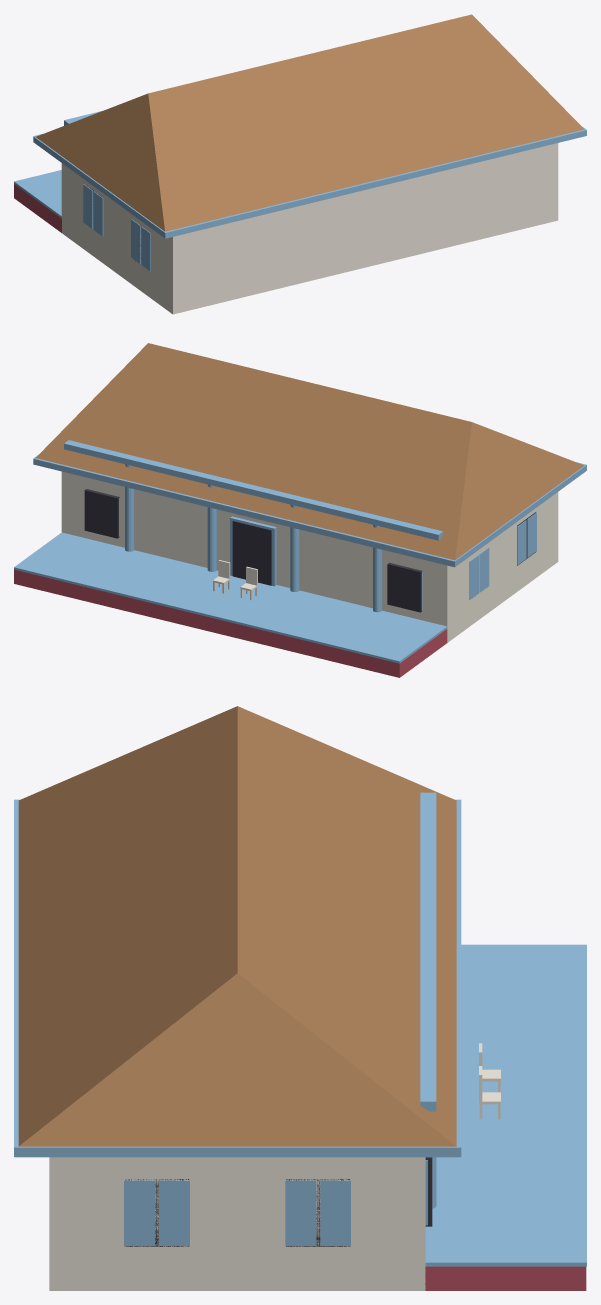
Rendered from Subbamma_House.glb.
3 views of the same model, one above another, from view 1: azimuth 30°, elevation 25°; view 2: azimuth 150°, elevation 25°; view 3: azimuth 270°, elevation 25° (orthographic). The views are drawn at different scales.
Visible parts, largest first — view 1: Roof, Walls, EaveBack, PlinthStrip, EaveLeft, Plinth, WinShutL_S-1_0; view 2: Roof, Walls, PlinthStrip, Plinth, ColBeam, EaveFront, Door, WinRecess_F1, WinRecess_F0, EaveLeft, DoorFrame, Col_2 (+3 smaller); view 3: Roof, PlinthStrip, Walls, ColBeam, EaveRight, Plinth, WinShutL_S1_0, EaveFront, WinShutR_S1_0, WinShutL_S1_1, WinShutR_S1_1, EaveBack.
Boxes of the visible parts, x1,y1,x2,y2 form: Roof: (36, 14, 584, 231); Walls: (61, 143, 558, 314); EaveBack: (163, 127, 586, 238); PlinthStrip: (14, 170, 61, 218); EaveLeft: (33, 134, 172, 238); Plinth: (14, 184, 61, 232); WinShutL_S-1_0: (93, 192, 103, 236); Roof: (36, 343, 584, 560); Walls: (61, 471, 558, 642); PlinthStrip: (14, 532, 447, 663); Plinth: (14, 569, 447, 677); ColBeam: (64, 440, 443, 540); EaveFront: (33, 458, 458, 567); Door: (232, 521, 271, 585); WinRecess_F1: (84, 489, 119, 538); WinRecess_F0: (387, 563, 422, 612); EaveLeft: (454, 464, 586, 566); DoorFrame: (230, 516, 276, 586); Col_2: (207, 484, 216, 571); Roof: (18, 706, 456, 1146); PlinthStrip: (425, 944, 586, 1266); Walls: (49, 1157, 425, 1290); ColBeam: (420, 792, 436, 1111); EaveRight: (14, 1141, 460, 1157); Plinth: (425, 1266, 586, 1290); WinShutL_S1_0: (285, 1180, 316, 1245); EaveFront: (445, 799, 461, 1156); WinShutR_S1_0: (320, 1180, 350, 1245); WinShutL_S1_1: (124, 1180, 154, 1245); WinShutR_S1_1: (159, 1180, 189, 1245); EaveBack: (14, 799, 29, 1156).
Size of the model in its own units: 15.32 by 6.08 by 10.66.
